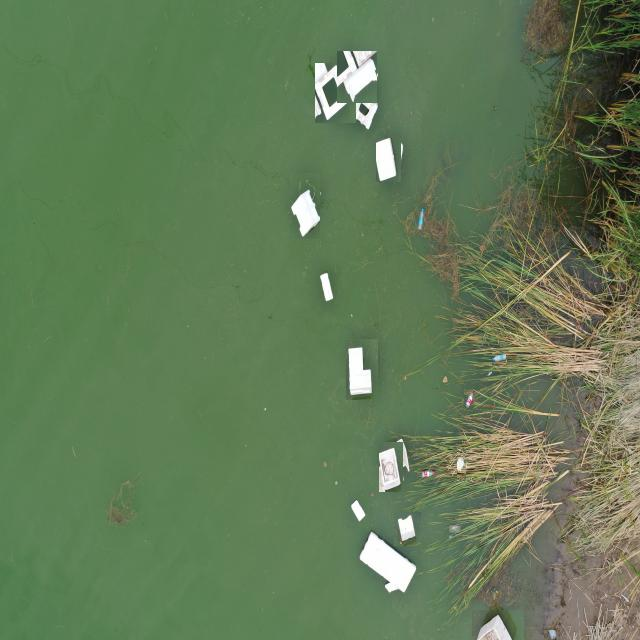plastic: (356, 532, 419, 600), (315, 63, 356, 123), (337, 51, 377, 103), (290, 173, 320, 239), (346, 339, 378, 400), (472, 610, 524, 640), (348, 85, 378, 134), (379, 442, 403, 492), (376, 138, 401, 182), (392, 433, 410, 486), (394, 512, 421, 546), (348, 496, 369, 528), (317, 266, 333, 300), (415, 202, 428, 236), (416, 467, 431, 488), (457, 449, 466, 481), (464, 381, 473, 412), (492, 352, 506, 366), (544, 630, 561, 640)
